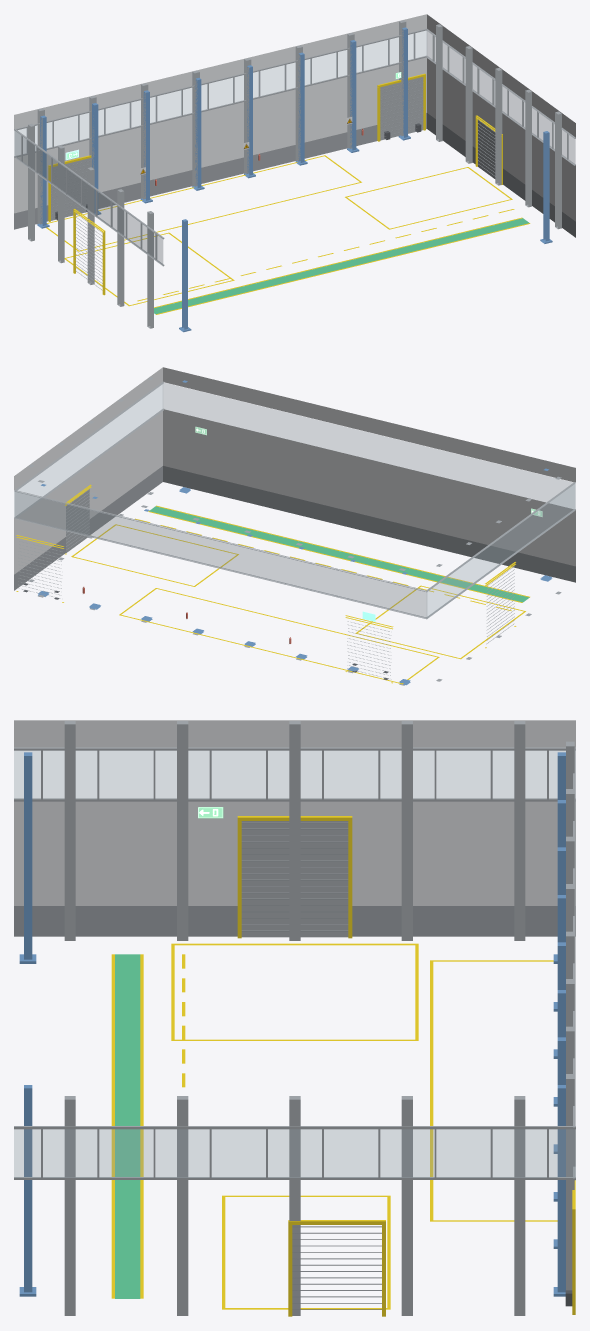
Rendered from nave.glb.
The picture shows the model from 3 angles, top to bottom: view 1: azimuth 30°, elevation 25°; view 2: azimuth 150°, elevation 25°; view 3: azimuth 270°, elevation 25°; orthographic projection. The views are drawn at different scales.
Parts seen in each view (by area): view 1: muro, estructura_gris, cristal_ventana, muro_oscuro, estructura, amarillo_seg, verde_seg; view 2: muro, cristal_ventana, cristal_simple, muro_oscuro, estructura_gris, amarillo_seg, verde_seg, estructura; view 3: muro, estructura_gris, cristal_ventana, muro_oscuro, amarillo_seg, estructura, verde_seg.
Part boxes in pixels (left/top/right/bottom): muro: left=14, top=14, right=575, bottom=221; estructura_gris: left=14, top=20, right=575, bottom=328; cristal_ventana: left=14, top=31, right=575, bottom=264; muro_oscuro: left=14, top=79, right=575, bottom=290; estructura: left=37, top=27, right=552, bottom=332; amarillo_seg: left=46, top=73, right=530, bottom=314; verde_seg: left=154, top=218, right=529, bottom=314; muro: left=14, top=367, right=575, bottom=574; cristal_ventana: left=14, top=384, right=575, bottom=617; cristal_simple: left=163, top=383, right=575, bottom=508; muro_oscuro: left=14, top=466, right=575, bottom=679; estructura_gris: left=14, top=377, right=575, bottom=685; amarillo_seg: left=16, top=484, right=529, bottom=684; verde_seg: left=149, top=506, right=529, bottom=602; estructura: left=38, top=380, right=552, bottom=685; muro: left=14, top=720, right=575, bottom=905; estructura_gris: left=14, top=721, right=575, bottom=1315; cristal_ventana: left=14, top=751, right=575, bottom=1177; muro_oscuro: left=14, top=822, right=575, bottom=1309; amarillo_seg: left=111, top=816, right=575, bottom=1316; estructura: left=19, top=752, right=565, bottom=1296; verde_seg: left=115, top=954, right=140, bottom=1298.
Bounding box in the file's own units: 32 × 8.5 × 20.
Materials: 13 (2 with a texture image).
